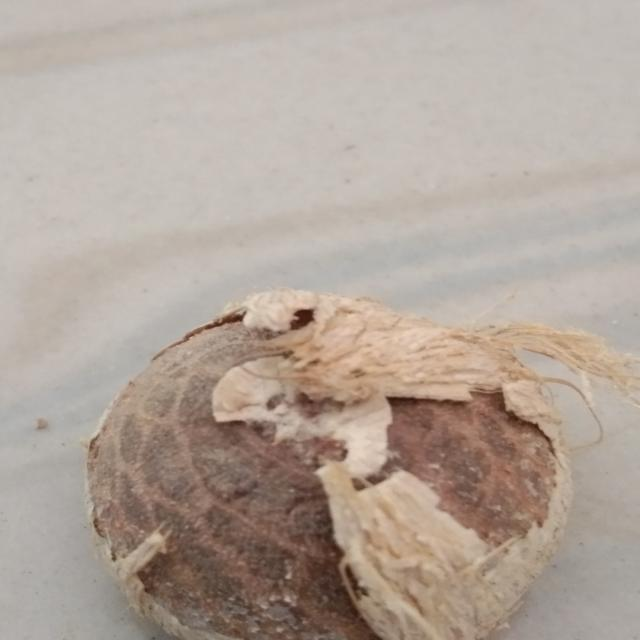phatora: (75, 287, 594, 640)
